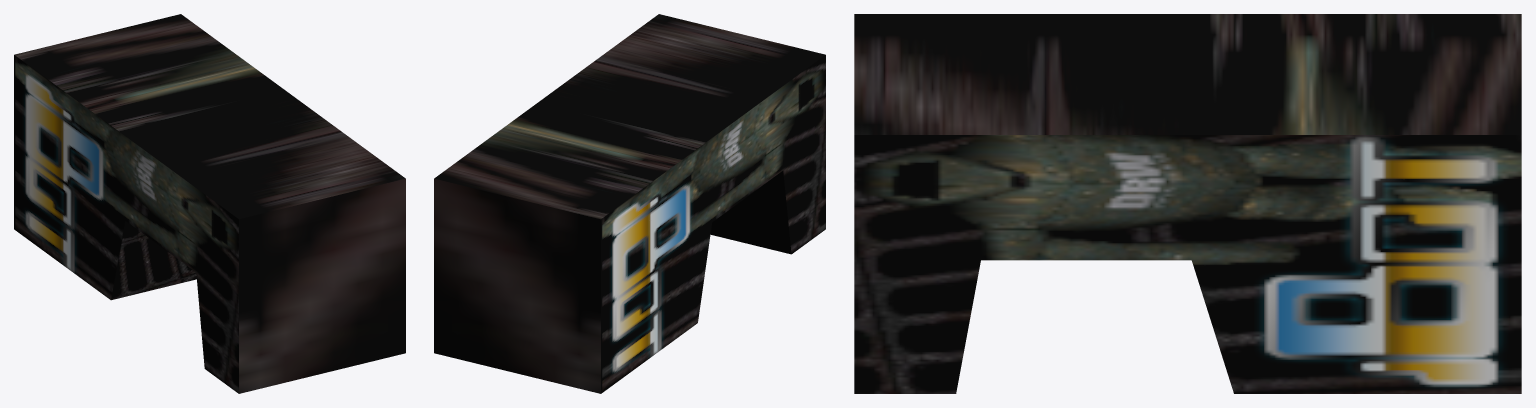
File: ibotgame_wtf.obj
3 views of the same model, side by side, from view 1: azimuth 30°, elevation 25°; view 2: azimuth 150°, elevation 25°; view 3: azimuth 270°, elevation 25° (orthographic). The views are drawn at different scales.
Visible parts, largest first — view 1: group2; view 2: group2; view 3: group2.
Boxes of the visible parts, x1=… form: group2: x1=14, y1=14, x2=405, y2=393; group2: x1=434, y1=14, x2=825, y2=393; group2: x1=854, y1=14, x2=1521, y2=393.
Bounding box in the file's own units: 283 × 283 × 660.
